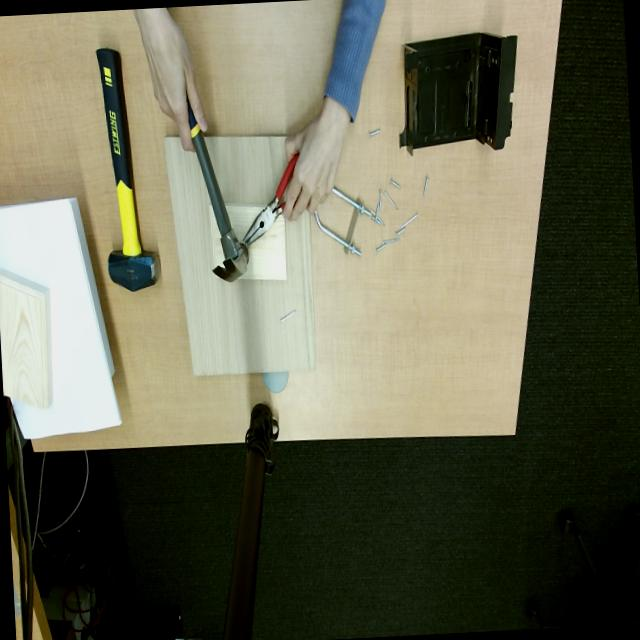hammer: (97, 48, 160, 292), (188, 100, 249, 282)
pliers: (243, 154, 299, 247)
